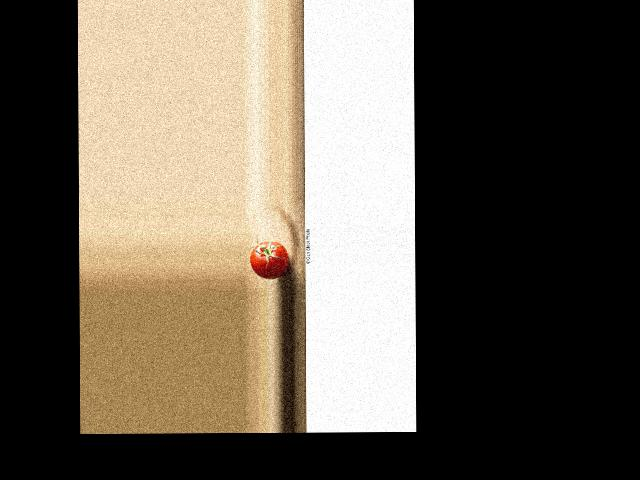tomato: (251, 240, 288, 278)
